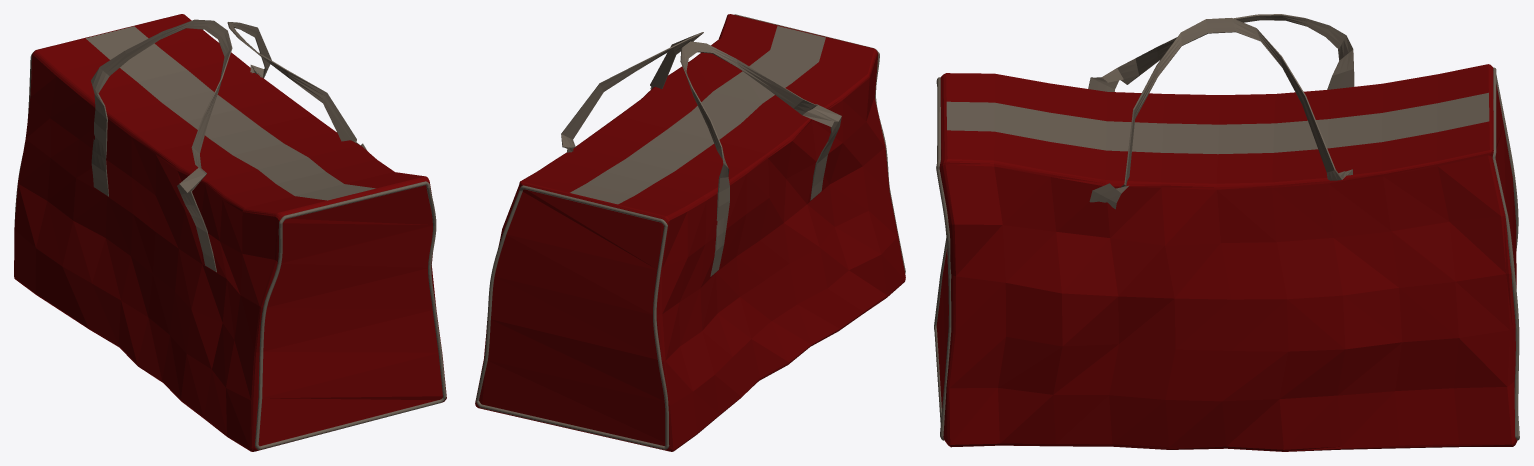
File: sport_bag_red.obj
3 views of the same model, side by side, from view 1: azimuth 30°, elevation 25°; view 2: azimuth 150°, elevation 25°; view 3: azimuth 270°, elevation 25° (orthographic). The views are drawn at different scales.
Parts seen in each view (by area): view 1: Line02.002; view 2: Line02.002; view 3: Line02.002.
Boxes of the visible parts, bbox=[...] form: Line02.002: bbox=[14, 14, 446, 451]; Line02.002: bbox=[475, 14, 905, 451]; Line02.002: bbox=[934, 14, 1519, 451].
Size of the model in its own units: 0.0314 by 0.0445 by 0.0632.
